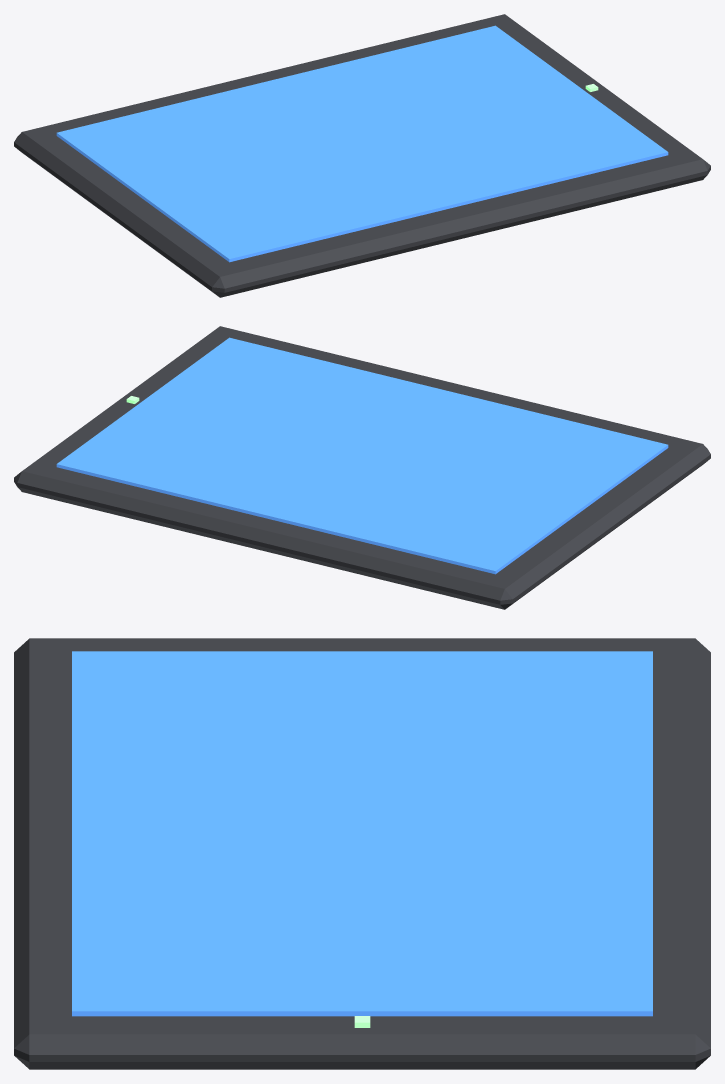
The model's file is tablet.glb.
The picture shows the model from 3 angles, top to bottom: view 1: azimuth 30°, elevation 25°; view 2: azimuth 150°, elevation 25°; view 3: azimuth 270°, elevation 25°; orthographic projection. The views are drawn at different scales.
Visible parts, largest first — view 1: tablet_screen, tablet; view 2: tablet_screen, tablet; view 3: tablet_screen, tablet.
Boxes of the visible parts, left/top/right/bottom form: tablet_screen: left=56, top=25, right=668, bottom=262; tablet: left=14, top=14, right=710, bottom=297; tablet_screen: left=56, top=337, right=668, bottom=574; tablet: left=14, top=326, right=710, bottom=609; tablet_screen: left=72, top=651, right=652, bottom=1016; tablet: left=14, top=638, right=710, bottom=1069.
Size of the model in its own units: 0.25 by 0.0115 by 0.18.
3 materials, 1 textured.
